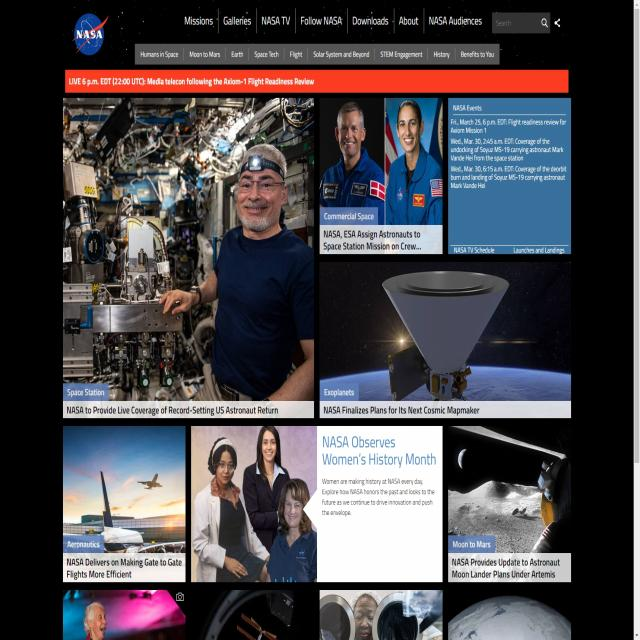menu-bar: (178, 8, 485, 32)
menu-panel: (132, 39, 502, 67)
search: (490, 8, 552, 34)
